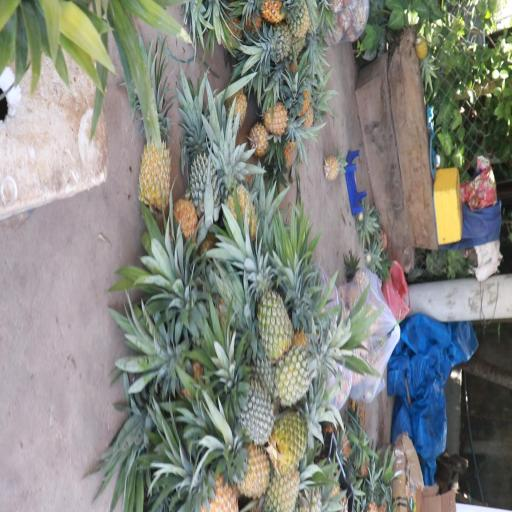------------------------------: (274, 320, 334, 402), (272, 401, 340, 465), (252, 264, 294, 360)
Pineapple - v8 v1: (166, 433, 237, 512), (133, 86, 175, 209), (217, 142, 259, 240), (220, 428, 273, 498), (258, 92, 305, 138), (265, 459, 299, 512)
